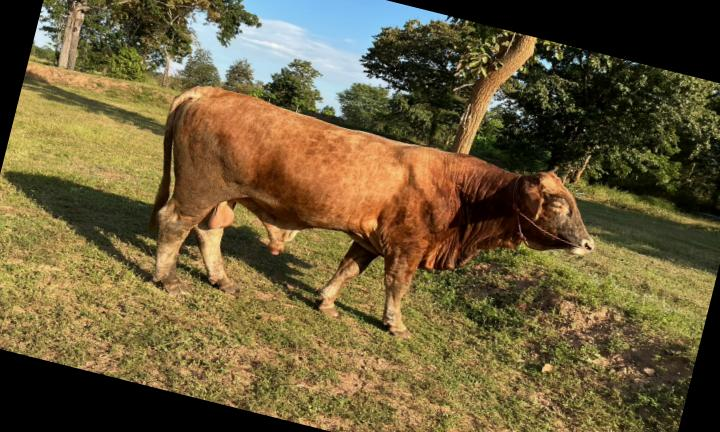Charolais: (149, 86, 593, 337)
